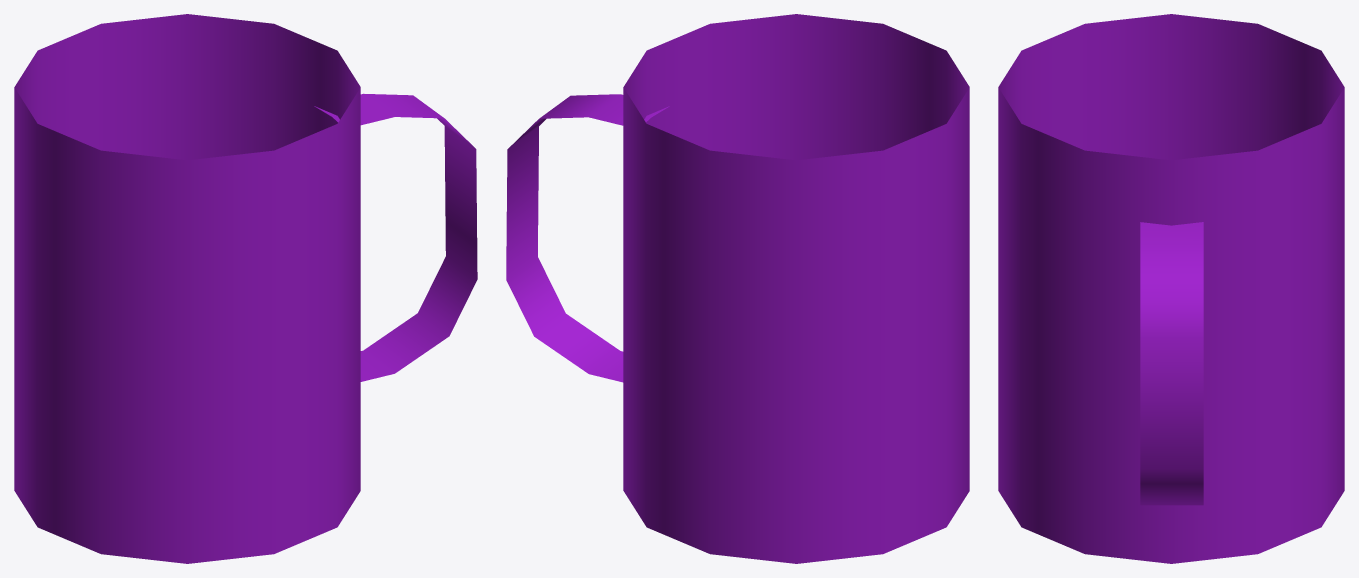
Rendered from shop cont cup lod1.FBX.
3 views of the same model, side by side, from view 1: azimuth 30°, elevation 25°; view 2: azimuth 150°, elevation 25°; view 3: azimuth 270°, elevation 25° (orthographic).
Parts seen in each view (by area): view 1: Cylinder290; view 2: Cylinder290; view 3: Cylinder290.
Boxes of the visible parts, bbox=[...] form: Cylinder290: bbox=[14, 14, 477, 563]; Cylinder290: bbox=[506, 14, 969, 563]; Cylinder290: bbox=[998, 14, 1344, 563].
Size of the model in its own units: 0.198 by 0.18 by 0.14.
